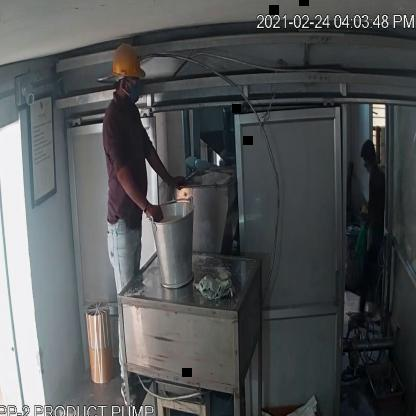helmet: (111, 42, 148, 84)
